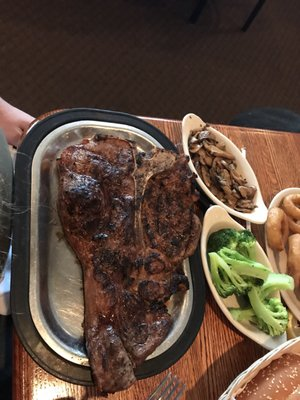curry: (207, 228, 295, 337)
sushi: (2, 105, 293, 394), (199, 203, 296, 352), (181, 114, 267, 223), (216, 337, 300, 400)
